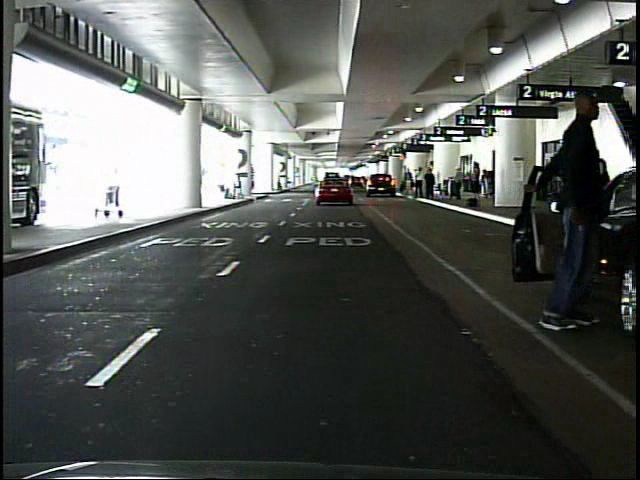person: (531, 94, 616, 335), (556, 141, 588, 243), (469, 162, 482, 207), (452, 167, 465, 202), (424, 167, 436, 202), (413, 165, 424, 200), (404, 169, 414, 197), (275, 172, 284, 189)
